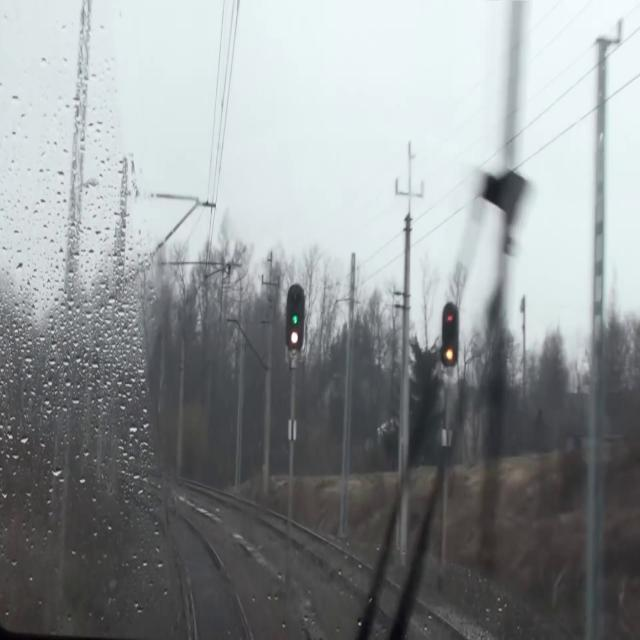rail-track: (141, 491, 249, 639), (412, 609, 459, 639), (256, 511, 285, 529), (293, 529, 312, 546)
